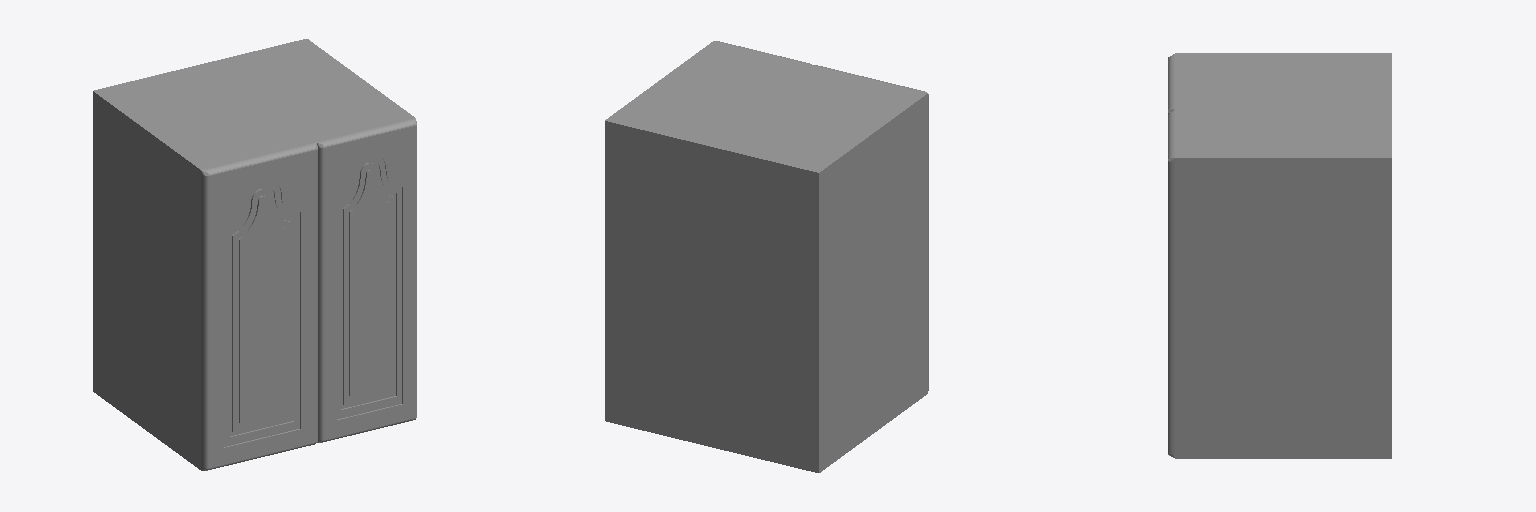
The model's file is double-base-unit-650.obj.
The picture shows the model from 3 angles: view 1: azimuth 30°, elevation 25°; view 2: azimuth 150°, elevation 25°; view 3: azimuth 270°, elevation 25°; orthographic projection.
Parts seen in each view (by area): view 1: Cube.003_Cube.008, Cube.002_Cube.004, Cube.004_Cube.000, Cube_Cube.002; view 2: Cube_Cube.002, Cube.002_Cube.004, Cube.001_Cube.003; view 3: Cube.001_Cube.003, Cube_Cube.002, Cube.004_Cube.000, Cube.002_Cube.004.
Boxes of the visible parts, x1=… form: Cube.003_Cube.008: x1=201, y1=142, x2=317, y2=470; Cube.002_Cube.004: x1=93, y1=90, x2=204, y2=469; Cube.004_Cube.000: x1=317, y1=118, x2=416, y2=442; Cube_Cube.002: x1=98, y1=40, x2=409, y2=168; Cube_Cube.002: x1=609, y1=43, x2=922, y2=471; Cube.002_Cube.004: x1=814, y1=93, x2=927, y2=472; Cube.001_Cube.003: x1=605, y1=41, x2=717, y2=421; Cube.001_Cube.003: x1=1175, y1=156, x2=1391, y2=458; Cube_Cube.002: x1=1175, y1=56, x2=1391, y2=155; Cube.004_Cube.000: x1=1168, y1=110, x2=1174, y2=457; Cube.002_Cube.004: x1=1175, y1=53, x2=1391, y2=55.
Bounding box in the file's own units: 130 × 174 × 118.